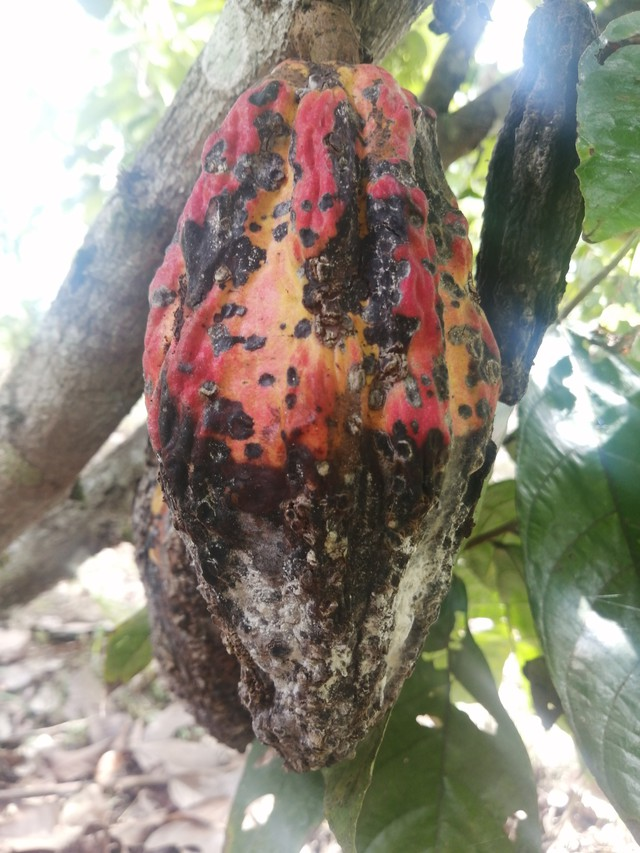moniliophthora roreri: (110, 35, 513, 786)
